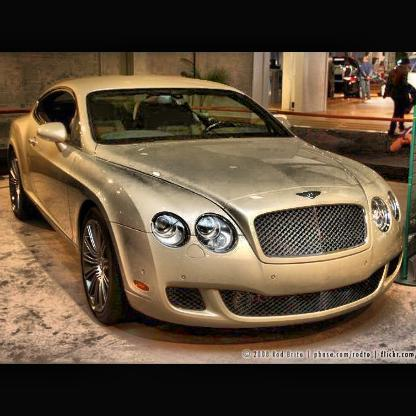Bentley Continental GT Coupe 2007: (5, 75, 407, 338)
